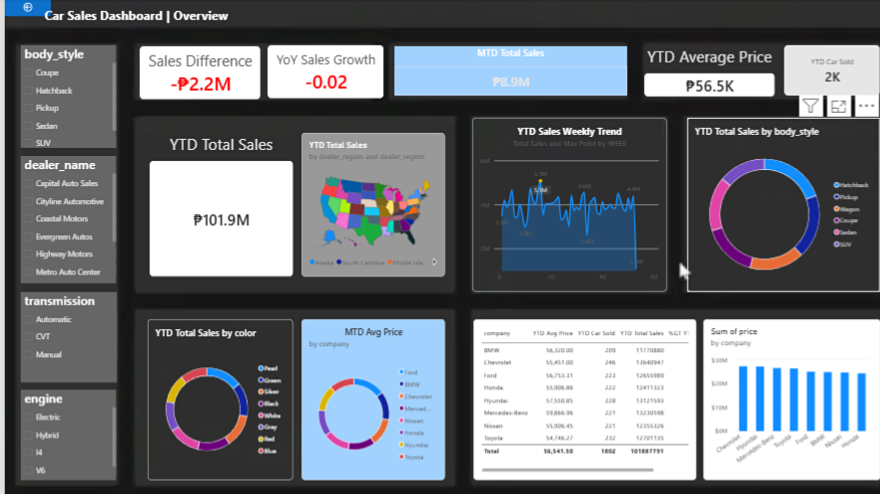

The page's visual inventory and layout, read from the dashboard file:
{"tool":"powerbi","page":{"name":"Page 1","canvas":[1920,1080],"ordinal":0},"visuals":[{"type":"cardVisual","title":"YTD Total Sales","fields":{"Data":["car_sales_5000.YTD Total Sales"]},"box":[312.2,289.8,310.2,308.2],"z":0},{"type":"cardVisual","fields":{"Data":["car_sales_5000.Sales Difference"]},"box":[290.7,102.8,261,114.4],"z":1000},{"type":"cardVisual","fields":{"Data":["car_sales_5000.YoY Sales Growth"]},"box":[567.8,102.3,251.6,114.4],"z":2000},{"type":"cardVisual","title":"MTD Total Sales","fields":{"Data":["car_sales_5000.MTD Total Sales"]},"box":[842.4,103.7,503.3,105.8],"z":4000},{"type":"areaChart","title":"YTD Sales Weekly Trend ","fields":{"Category":["Calendar Table.WEEK"],"Y":["Calendar Table.Total Sales","car_sales_5000.Max Point"]},"box":[1011.8,257,419.8,372.7],"z":5000},{"type":"donutChart","fields":{"Category":["car_sales_5000.body_style"],"Y":["car_sales_5000.YTD Total Sales"]},"box":[1475.2,256.9,417.8,373.2],"z":6000},{"type":"donutChart","fields":{"Category":["car_sales_5000.color"],"Y":["car_sales_5000.YTD Total Sales"]},"box":[308.2,689.8,314.3,344.9],"z":7000},{"type":"shapeMap","fields":{"Category":["car_sales_5000.dealer_region"],"Series":["car_sales_5000.dealer_region"],"Value":["car_sales_5000.YTD Total Sales"]},"box":[640.8,289.8,310.2,308.2],"z":8000},{"type":"donutChart","fields":{"Category":["car_sales_5000.company"],"Y":["car_sales_5000.MTD Avg Price"]},"box":[640.9,689.6,309.6,344.8],"z":8001},{"type":"cardVisual","fields":{"Data":["car_sales_5000.YTD Car Sold"]},"box":[1684.8,101.5,207.4,108],"z":8003},{"type":"clusteredColumnChart","fields":{"Category":["car_sales_5000.company"],"Y":["Sum(car_sales_5000.price)"]},"box":[1510.2,689.8,383.7,344.9],"z":8004},{"type":"tableEx","fields":{"Values":["car_sales_5000.company","car_sales_5000.YTD Avg Price","car_sales_5000.YTD Car Sold","car_sales_5000.YTD Total Sales","Divide(car_sales_5000.YTD Total Sales, ScopedEval(car_sales_5000.YTD Total Sales, []))"]},"box":[1012.2,689.8,481.6,344.9],"z":8005},{"type":"actionButton","box":[0,0,100,40],"z":8006},{"type":"textbox","box":[20.4,0,530.6,73.5],"z":8007},{"type":"slicer","fields":{"Values":["car_sales_5000.body_style"]},"box":[34.7,102,206.1,220.4],"z":8008},{"type":"slicer","fields":{"Values":["car_sales_5000.dealer_name"]},"box":[34.7,338.8,206.1,273.5],"z":8009},{"type":"slicer","fields":{"Values":["car_sales_5000.transmission"]},"box":[34.7,630.6,208.2,193.9],"z":8010},{"type":"slicer","fields":{"Values":["car_sales_5000.engine"]},"box":[34.7,840.8,206.1,193.9],"z":8011},{"type":"cardVisual","title":"YTD Average Price","fields":{"Data":["car_sales_5000.YTD Avg Price"]},"box":[1382.4,101.5,283,110.2],"z":8012}]}

Visuals, with their boxes in screenshot pixels (x1, y1, x2, y2):
"YTD Total Sales" cardVisual: (146, 131, 292, 276)
cardVisual - car_sales_5000.Sales Difference: (136, 44, 259, 97)
cardVisual - car_sales_5000.YoY Sales Growth: (266, 43, 384, 97)
"MTD Total Sales" cardVisual: (395, 44, 631, 94)
"YTD Sales Weekly Trend " areaChart: (474, 116, 671, 291)
donutChart - car_sales_5000.body_style x car_sales_5000.YTD Total Sales: (691, 116, 879, 291)
donutChart - car_sales_5000.color x car_sales_5000.YTD Total Sales: (144, 319, 292, 480)
shapeMap - car_sales_5000.dealer_region x car_sales_5000.dealer_region: (300, 131, 446, 276)
donutChart - car_sales_5000.company x car_sales_5000.MTD Avg Price: (300, 319, 445, 480)
cardVisual - car_sales_5000.YTD Car Sold: (790, 43, 879, 94)
clusteredColumnChart - car_sales_5000.company x Sum(car_sales_5000.price): (708, 319, 879, 480)
tableEx - car_sales_5000.company x car_sales_5000.YTD Avg Price: (474, 319, 700, 480)
actionButton: (0, 0, 47, 14)
textbox: (10, 0, 258, 30)
slicer - car_sales_5000.body_style: (16, 43, 113, 146)
slicer - car_sales_5000.dealer_name: (16, 154, 113, 282)
slicer - car_sales_5000.transmission: (16, 291, 114, 382)
slicer - car_sales_5000.engine: (16, 389, 113, 480)
"YTD Average Price" cardVisual: (648, 43, 780, 95)
